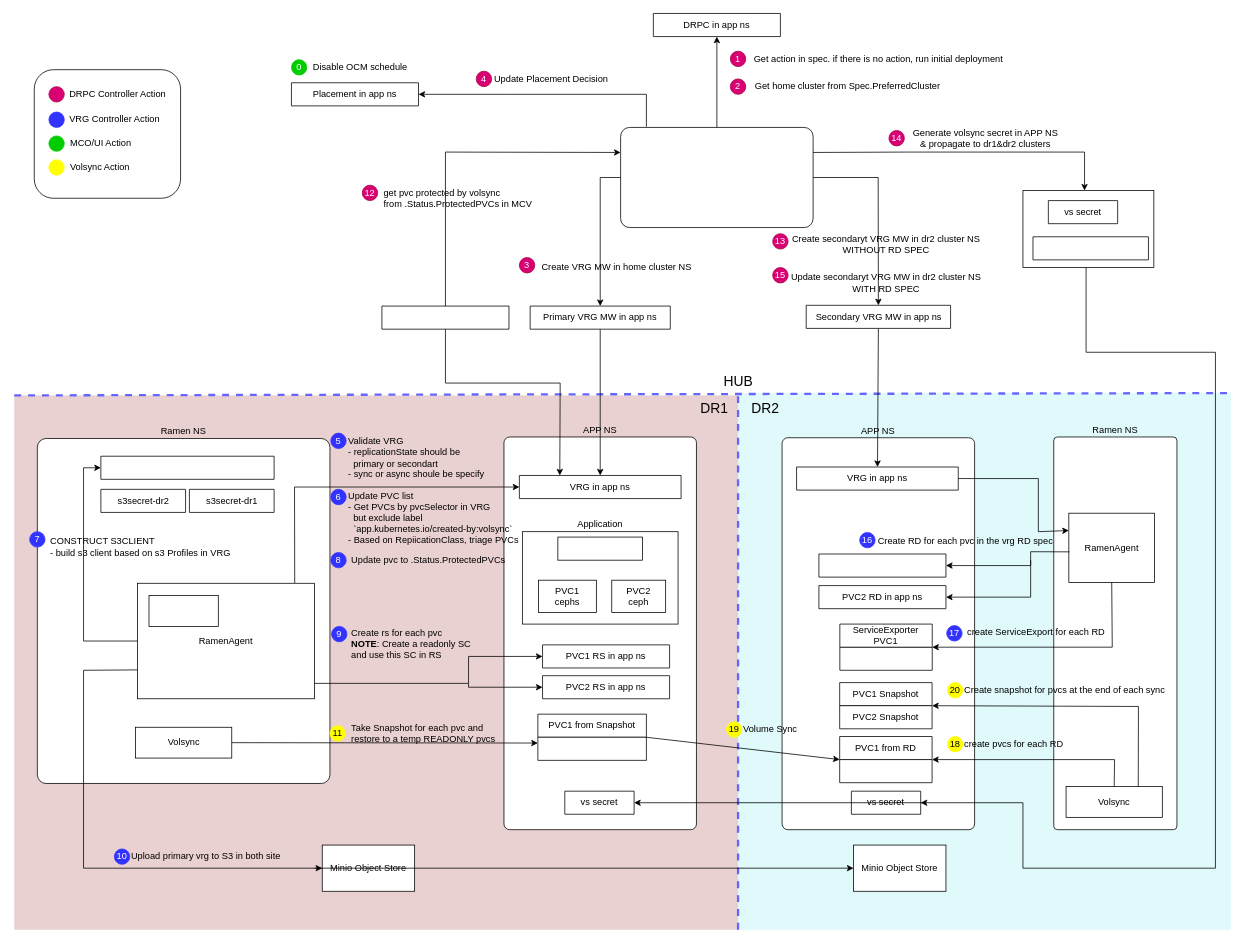
This 1246x945 diagram has some shape labels left out. The shapes that lost their labels are listed below. From the top down, each one's centre as x and y in pixels, then its label:
At [716,177]: "DRPC Controller".
At [1090,248]: "vs secret policy".
At [445,317]: "VRG MCV in app ns".
At [187,467]: "Configmap: ramen-dr-cluster-operator-config".
At [600,548]: "Deployment".
At [882,565]: "PVC1 RD in app ns".
At [183,610]: "S3 Client".
At [885,658]: "ServiceExporter PVC2".
At [591,748]: "PVC2 from Snapshot".
At [885,771]: "PVC2 from RD".
